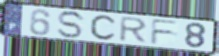6: (29, 8, 52, 36)
8: (184, 22, 208, 49)
C: (90, 14, 117, 41)
F: (150, 18, 181, 46)
R: (117, 16, 150, 44)
S: (56, 10, 87, 39)
